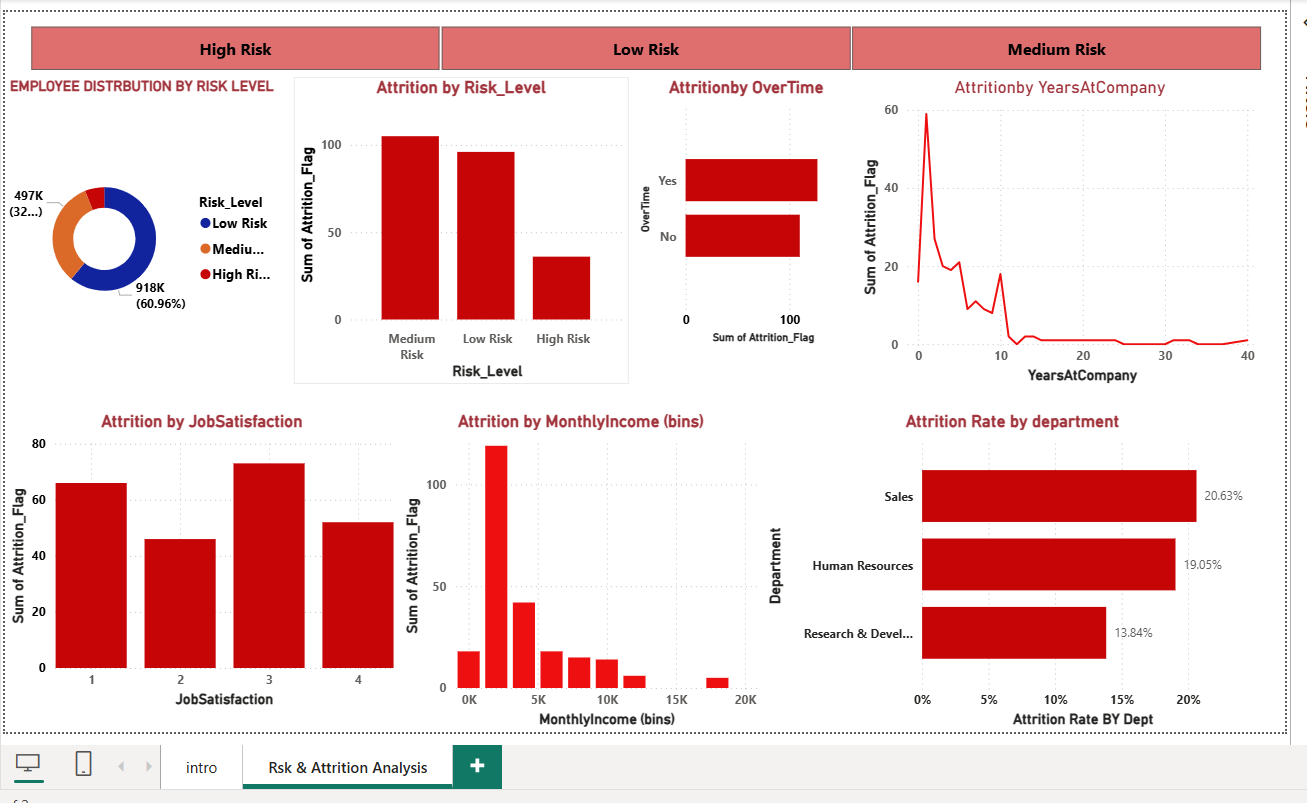

Layout of this report page (visuals, bound fields, positions):
{"tool":"powerbi","page":{"name":"Risk & Attrition Analysis","canvas":[1280,720],"ordinal":1},"visuals":[{"type":"donutChart","title":"EMPLOYEE DISTRBUTION BY RISK LEVEL","fields":{"Category":["WA_Fn-UseC_-HR-Employee-Attrition.Risk_Level"],"Y":["Sum(WA_Fn-UseC_-HR-Employee-Attrition.EmployeeNumber)"]},"box":[0,65,280,307.5],"z":0},{"type":"clusteredColumnChart","title":" Attrition by Risk_Level","fields":{"Y":["Sum(WA_Fn-UseC_-HR-Employee-Attrition.Attrition_Flag)"],"Category":["WA_Fn-UseC_-HR-Employee-Attrition.Risk_Level"]},"box":[288.8,65,335,307.5],"z":1000},{"type":"columnChart","title":" Attrition by JobSatisfaction","fields":{"Category":["WA_Fn-UseC_-HR-Employee-Attrition.JobSatisfaction"],"Y":["Sum(WA_Fn-UseC_-HR-Employee-Attrition.Attrition_Flag)"]},"box":[0,398.8,393.8,301.2],"z":2000},{"type":"columnChart","title":" Attrition by MonthlyIncome (bins)","fields":{"Y":["Sum(WA_Fn-UseC_-HR-Employee-Attrition.Attrition_Flag)"],"Category":["WA_Fn-UseC_-HR-Employee-Attrition.MonthlyIncome (bins)"]},"box":[393.8,398.8,363.8,321.2],"z":3000},{"type":"lineChart","title":" Attrition by YearsAtCompany","fields":{"Category":["WA_Fn-UseC_-HR-Employee-Attrition.YearsAtCompany"],"Y":["Sum(WA_Fn-UseC_-HR-Employee-Attrition.Attrition_Flag)"]},"box":[852.5,65,405,311.2],"z":4000},{"type":"barChart","title":"Attrition by OverTime","fields":{"Y":["Sum(WA_Fn-UseC_-HR-Employee-Attrition.Attrition_Flag)"],"Category":["WA_Fn-UseC_-HR-Employee-Attrition.OverTime"]},"box":[630,65,222.5,271.2],"z":5000},{"type":"slicer","fields":{"Values":["WA_Fn-UseC_-HR-Employee-Attrition.Risk_Level"]},"box":[0,7.5,1280,57.5],"z":6000},{"type":"barChart","title":"Attrition Rate by department ","fields":{"Category":["WA_Fn-UseC_-HR-Employee-Attrition.Department"],"Y":["WA_Fn-UseC_-HR-Employee-Attrition.Attrition Rate BY Bept"]},"box":[757.5,398.8,500,321.2],"z":7000}]}

Visuals, with their boxes on the page's 1280x720 design canvas (x1, y1, x2, y2). These are canvas units, not pixel positions in the 1307x803 screenshot, which may show the page scaled, cropped or inside an application window:
"EMPLOYEE DISTRBUTION BY RISK LEVEL" donutChart: {"left": 0, "top": 65, "right": 280, "bottom": 372}
" Attrition by Risk_Level" clusteredColumnChart: {"left": 289, "top": 65, "right": 624, "bottom": 372}
" Attrition by JobSatisfaction" columnChart: {"left": 0, "top": 399, "right": 394, "bottom": 700}
" Attrition by MonthlyIncome (bins)" columnChart: {"left": 394, "top": 399, "right": 758, "bottom": 720}
" Attrition by YearsAtCompany" lineChart: {"left": 852, "top": 65, "right": 1258, "bottom": 376}
"Attrition by OverTime" barChart: {"left": 630, "top": 65, "right": 852, "bottom": 336}
slicer - WA_Fn-UseC_-HR-Employee-Attrition.Risk_Level: {"left": 0, "top": 8, "right": 1280, "bottom": 65}
"Attrition Rate by department " barChart: {"left": 758, "top": 399, "right": 1258, "bottom": 720}
